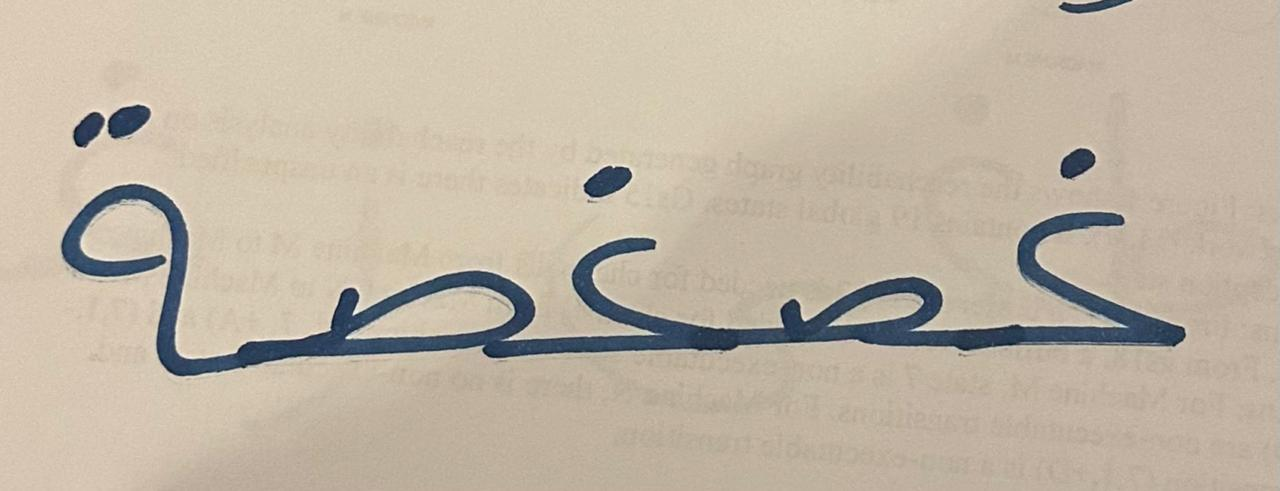ghain: (953, 105, 1217, 416), (544, 118, 722, 397)
seen: (233, 136, 540, 401), (725, 157, 950, 406)
thal: (22, 53, 228, 400)
